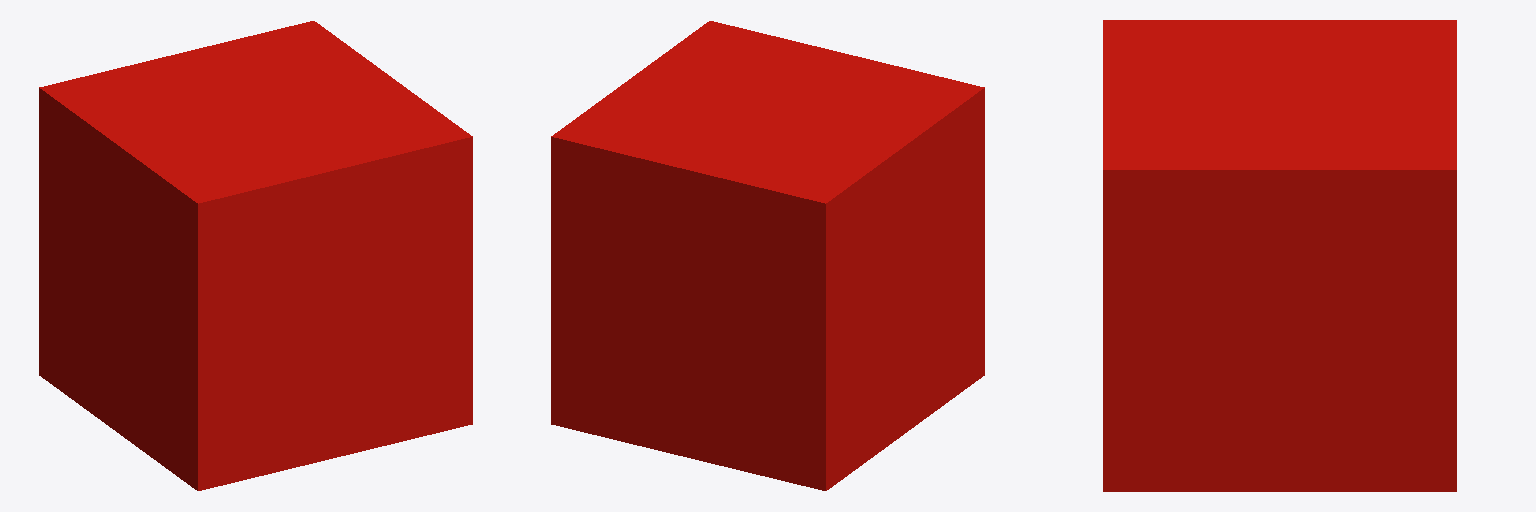
robot.urdf — phase1_cube:
<?xml version="1.0"?>
<robot name="phase1_cube">
  <!-- Standalone object model. Size: 40 mm cube; mass: 80 g. -->
  <link name="cube_link">
    <inertial>
      <origin xyz="0 0 0" rpy="0 0 0"/>
      <mass value="0.08"/>
      <inertia ixx="0.0000213333" ixy="0" ixz="0"
               iyy="0.0000213333" iyz="0"
               izz="0.0000213333"/>
    </inertial>
    <visual>
      <origin xyz="0 0 0" rpy="0 0 0"/>
      <geometry><box size="0.04 0.04 0.04"/></geometry>
      <material name="phase1_red">
        <color rgba="0.85 0.12 0.08 1.0"/>
      </material>
    </visual>
    <collision>
      <origin xyz="0 0 0" rpy="0 0 0"/>
      <geometry><box size="0.04 0.04 0.04"/></geometry>
    </collision>
  </link>
</robot>

--- Render facts (derived) ---
Views: 3 orthographic renders of the robot side by side, from view 1: azimuth 30°, elevation 25°; view 2: azimuth 150°, elevation 25°; view 3: azimuth 270°, elevation 25°.
Robot: phase1_cube — 1 links, 0 joints (none); root link cube_link; default pose: every joint at zero.
Visible links, largest first — view 1: cube_link; view 2: cube_link; view 3: cube_link.
Boxes of the visible links, x1=… form: cube_link: x1=39, y1=21, x2=472, y2=490; cube_link: x1=551, y1=21, x2=984, y2=490; cube_link: x1=1103, y1=20, x2=1456, y2=491.
Bounding box of the posed robot: 0.04 × 0.04 × 0.04 m (x, y, z).
Geometry: primitives only (box / cylinder / sphere), no mesh files.
